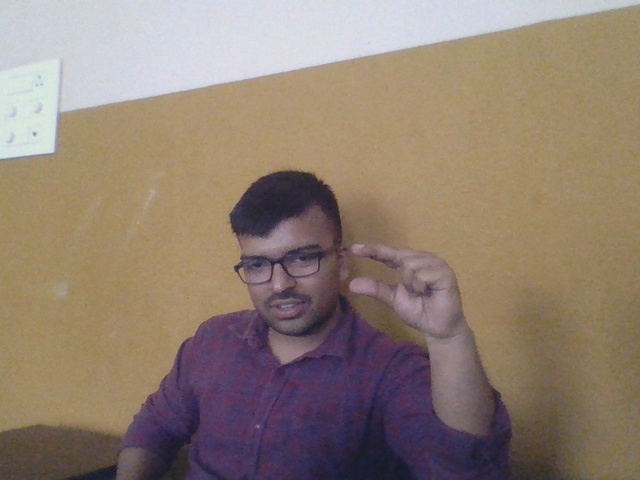No: (344, 230, 476, 348)
